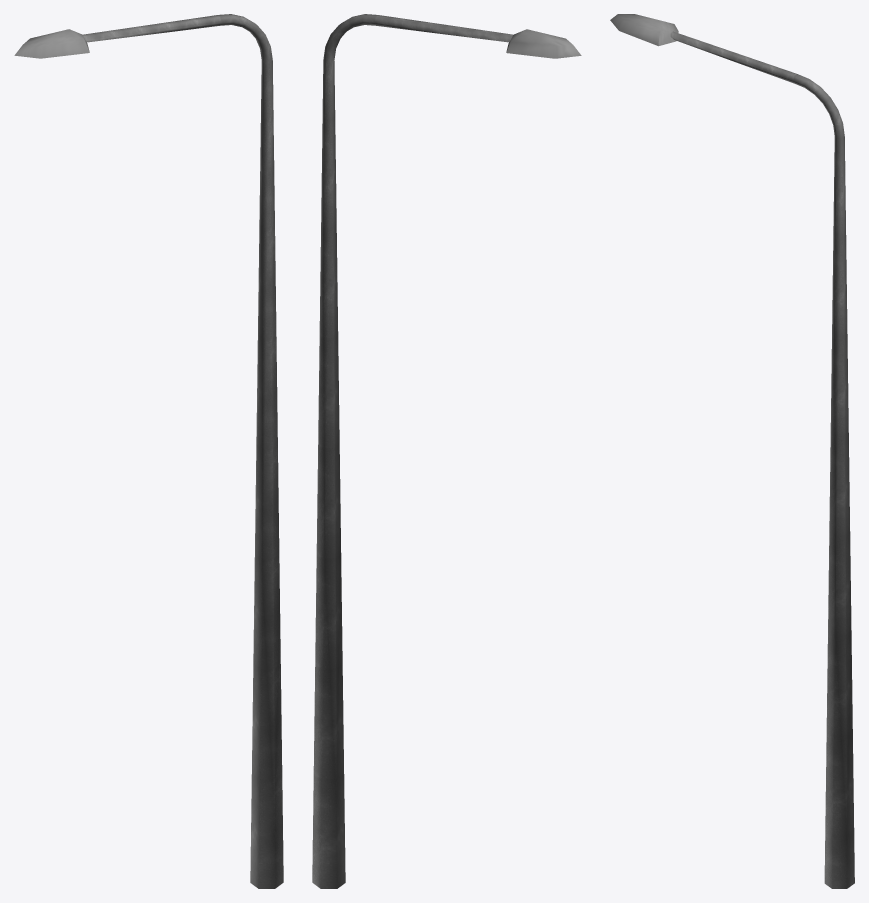
The model's file is streetlight.glb.
3 renders of one model, left to right at view 1: azimuth 30°, elevation 25°; view 2: azimuth 150°, elevation 25°; view 3: azimuth 330°, elevation 25°, orthographic. The views are drawn at different scales.
Parts seen in each view (by area): view 1: Post, Lamp; view 2: Post, Lamp; view 3: Post, Lamp.
Boxes of the visible parts, bbox=[...] form: Post: bbox=[83, 14, 283, 888]; Lamp: bbox=[14, 29, 89, 58]; Post: bbox=[312, 14, 512, 888]; Lamp: bbox=[506, 29, 581, 58]; Post: bbox=[670, 31, 854, 888]; Lamp: bbox=[610, 14, 678, 46].
Bounding box in the file's own units: 2.11 × 6.85 × 0.3059.
5 materials, 5 textured.
